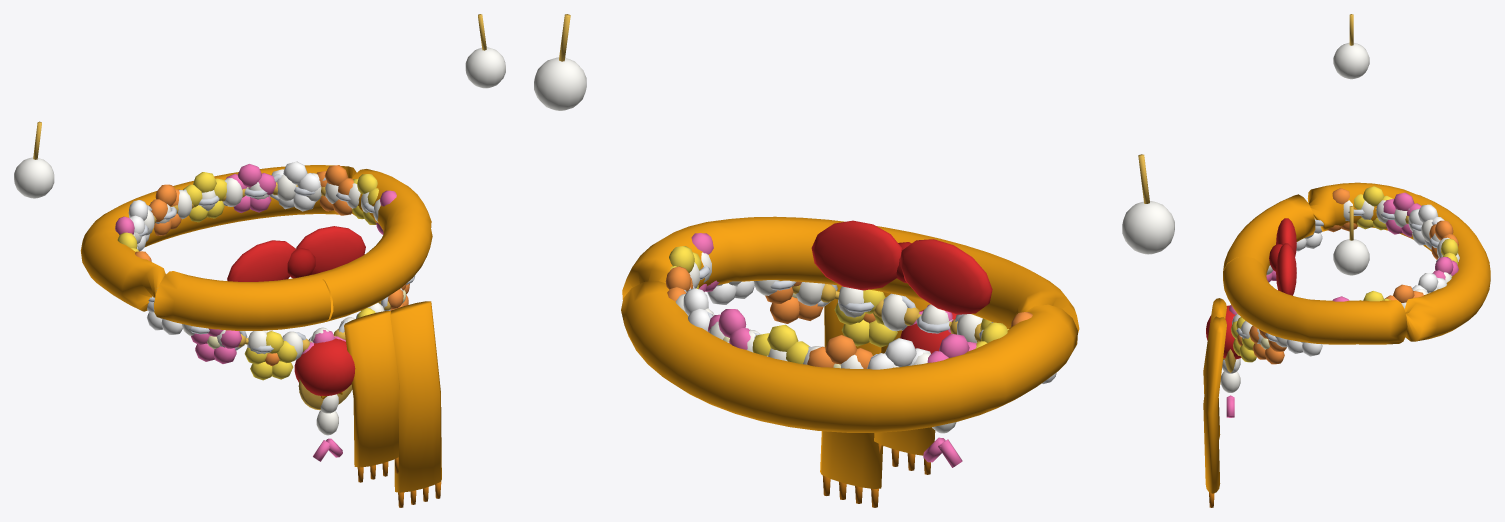
Rendered from props-j.glb.
The picture shows the model from 3 angles, left to right: view 1: azimuth 30°, elevation 25°; view 2: azimuth 150°, elevation 25°; view 3: azimuth 270°, elevation 25°; orthographic projection. The views are drawn at different scales.
Visible parts, largest first — view 1: j-scarf, j-lei, j-jasmine, j-bowtie, j-pearl, j-chain, j-gold; view 2: j-scarf, j-lei, j-bowtie, j-jasmine, j-pearl, j-chain, j-gold; view 3: j-scarf, j-lei, j-jasmine, j-pearl, j-bowtie, j-chain.
Boxes of the visible parts, box(x1,y1,x2,y2) form: j-scarf: box(80, 165, 441, 507); j-lei: box(115, 161, 409, 380); j-jasmine: box(129, 173, 403, 461); j-bowtie: box(227, 226, 365, 281); j-pearl: box(14, 14, 505, 198); j-chain: box(137, 174, 414, 352); j-gold: box(153, 182, 390, 410); j-scarf: box(621, 216, 1079, 507); j-lei: box(665, 233, 1056, 383); j-bowtie: box(811, 220, 992, 314); j-jasmine: box(675, 252, 993, 467); j-pearl: box(534, 14, 1174, 254); j-chain: box(684, 265, 983, 361); j-gold: box(792, 284, 981, 341); j-scarf: box(1203, 182, 1490, 507); j-lei: box(1229, 186, 1458, 364); j-jasmine: box(1206, 200, 1459, 417); j-pearl: box(1333, 14, 1369, 275); j-bowtie: box(1269, 218, 1296, 295); j-chain: box(1233, 208, 1458, 370).
Bounding box in the file's own units: 0.4334 × 0.3376 × 0.2491.
